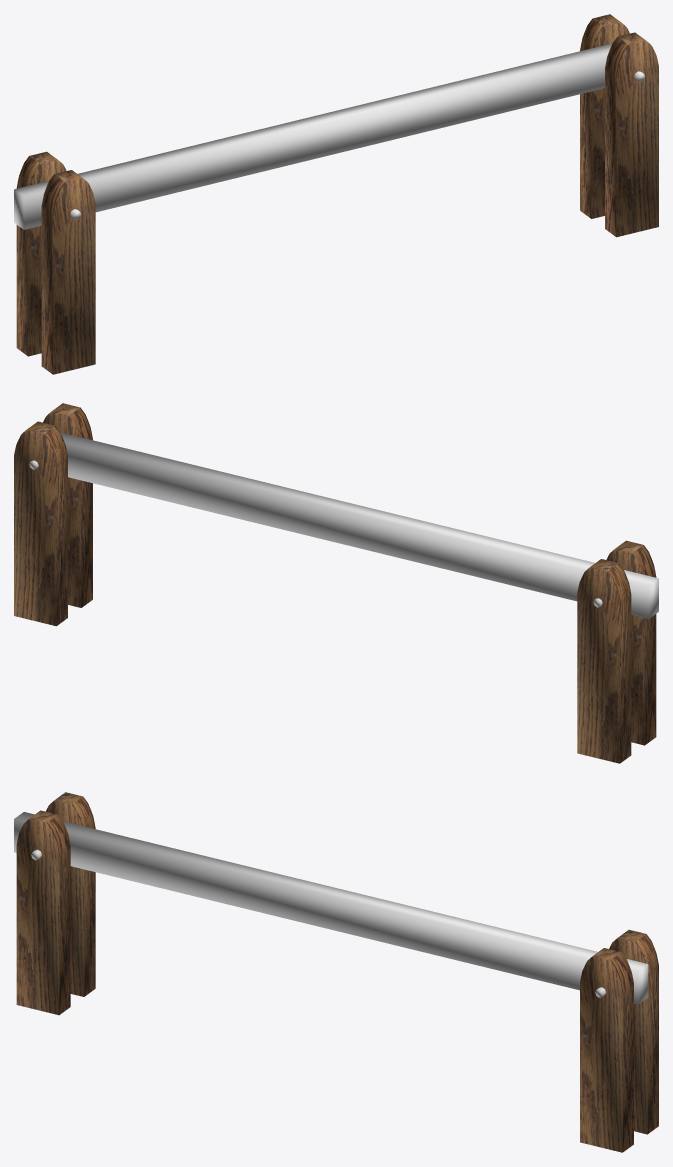
The model's file is alttan geçmelik engel_3.fbx.
3 renders of one model, top to bottom at view 1: azimuth 30°, elevation 25°; view 2: azimuth 150°, elevation 25°; view 3: azimuth 330°, elevation 25°, orthographic.
Visible parts, largest first — view 1: Cylinder, Cube.001, Cube.002; view 2: Cylinder, Cube.001, Cube.002; view 3: Cylinder, Cube.002, Cube.001.
Part boxes in pixels (left/top/right/bottom): Cylinder: left=14, top=43, right=645, bottom=229; Cube.001: left=16, top=151, right=95, bottom=374; Cube.002: left=580, top=14, right=658, bottom=237; Cylinder: left=29, top=432, right=658, bottom=618; Cube.001: left=577, top=540, right=656, bottom=763; Cube.002: left=14, top=403, right=92, bottom=626; Cylinder: left=14, top=812, right=648, bottom=1004; Cube.002: left=580, top=929, right=658, bottom=1152; Cube.001: left=16, top=792, right=95, bottom=1015.
Size of the model in its own units: 302 by 87.58 by 33.8.
Materials: 2 (1 with a texture image).
